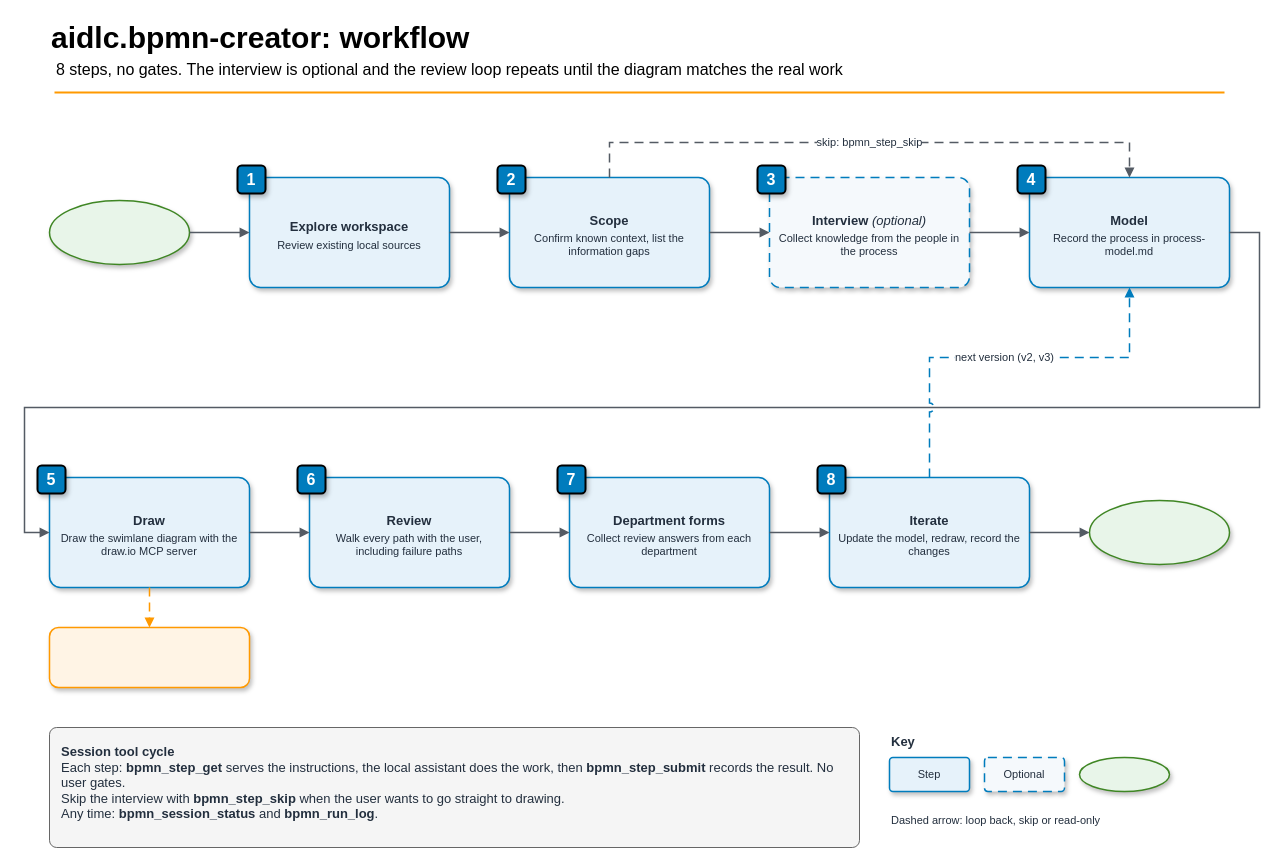
The diagram is 1287 pixels wide and 865 high, and some of its shapes have lost their labels. The centre of each missing label's shape, as x and y in pixels:
bpmn_validate after every draw, then check the exported image: (x=150, y=658)
Done: (x=1160, y=533)
Start / end: (x=1125, y=775)
Start bpmn_start: (x=120, y=233)
